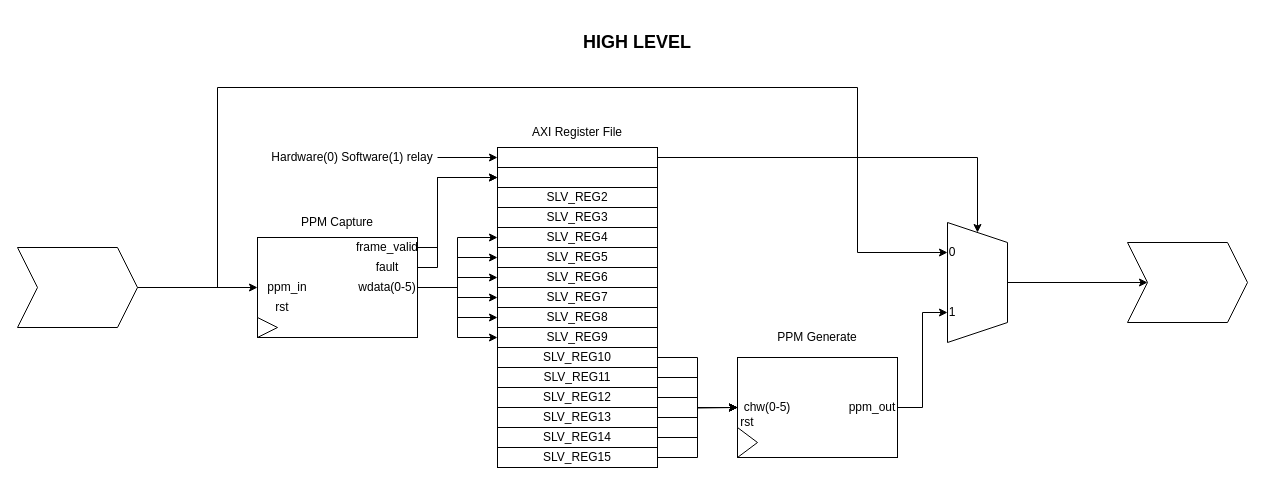
The diagram is 1265 pixels wide and 485 high, and some of its shapes have lost their labels. Each missing label, with the centre of its shape:
"IN PPM_I" belongs at point (77, 287).
"OUT PPM_O" belongs at point (1187, 282).
"SLV_REG0 (HW/SW)" belongs at point (577, 157).
"SLV_REG1 (Status/Flags)" belongs at point (577, 177).
